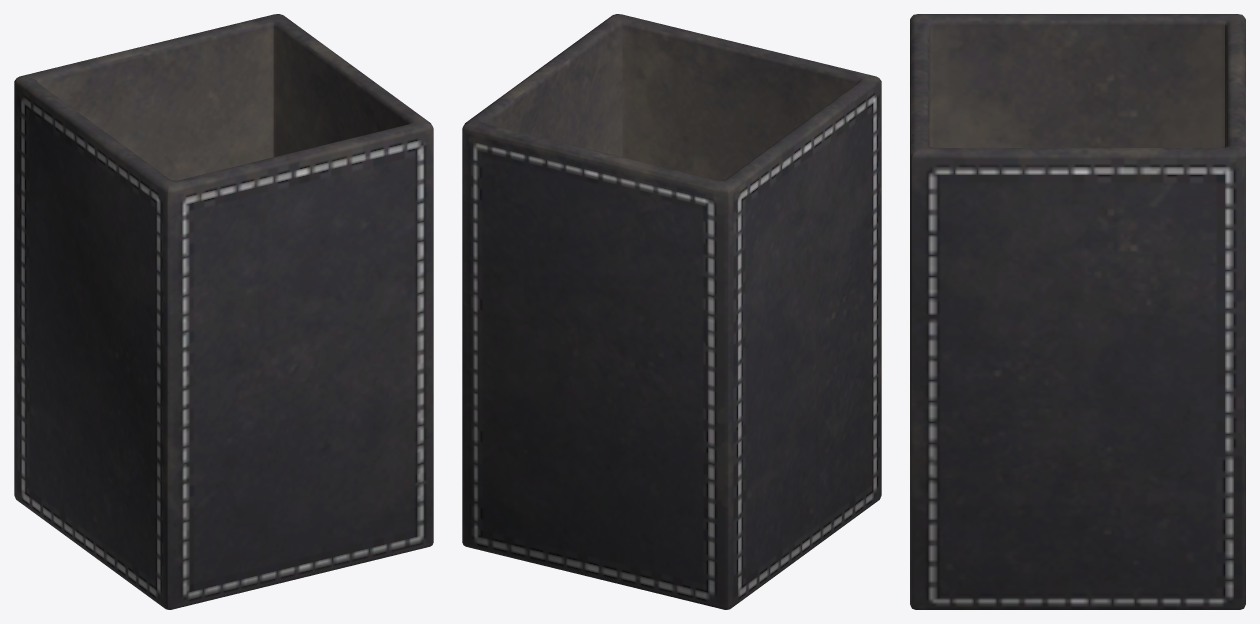
The model's file is leatherBox.FBX.
3 renders of one model, left to right at view 1: azimuth 30°, elevation 25°; view 2: azimuth 150°, elevation 25°; view 3: azimuth 270°, elevation 25°, orthographic. The views are drawn at different scales.
Visible parts, largest first — view 1: SM_LeatherBox; view 2: SM_LeatherBox; view 3: SM_LeatherBox.
Boxes of the visible parts, bbox=[...] form: SM_LeatherBox: bbox=[14, 14, 433, 609]; SM_LeatherBox: bbox=[462, 14, 881, 609]; SM_LeatherBox: bbox=[910, 14, 1245, 609].
Size of the model in its own units: 7.33 by 11.05 by 7.33.
Materials: 1 (1 with a texture image).
